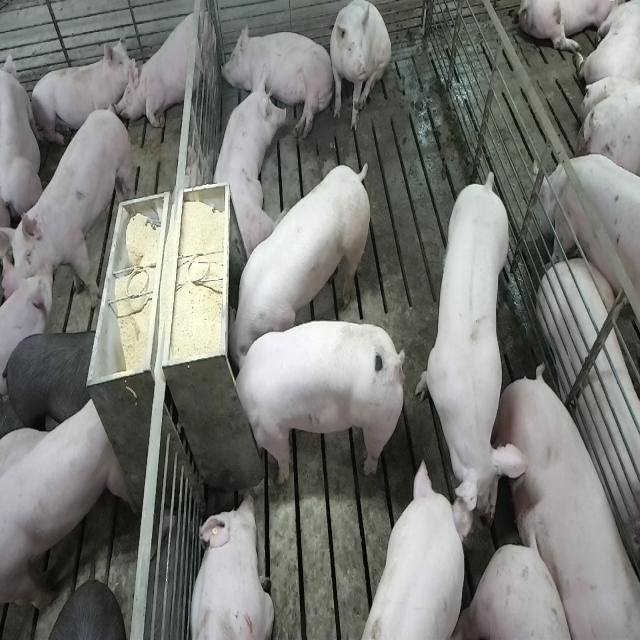Feeding: (228, 160, 376, 370), (232, 318, 409, 484)
Lateral_lying: (492, 368, 640, 640), (222, 22, 334, 140)
Sitting: (123, 2, 215, 134), (328, 2, 391, 134)
Standing: (420, 172, 520, 544), (2, 394, 132, 616), (5, 109, 136, 326), (357, 459, 478, 640), (541, 156, 640, 348), (3, 324, 96, 439), (0, 40, 41, 226)
Sternal_lying: (208, 68, 286, 258), (186, 490, 274, 640), (30, 37, 136, 151)
